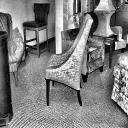chair_success: (45, 10, 95, 110), (19, 0, 53, 59)
